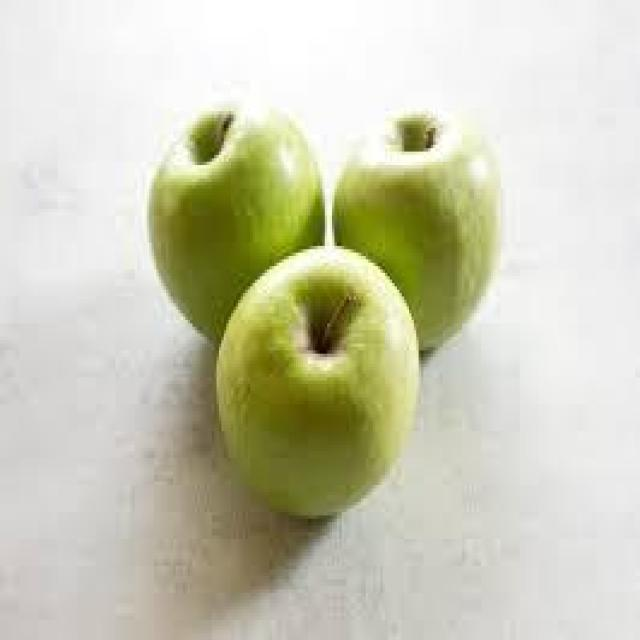maca: (214, 242, 421, 518), (332, 104, 503, 349), (156, 110, 325, 316)
